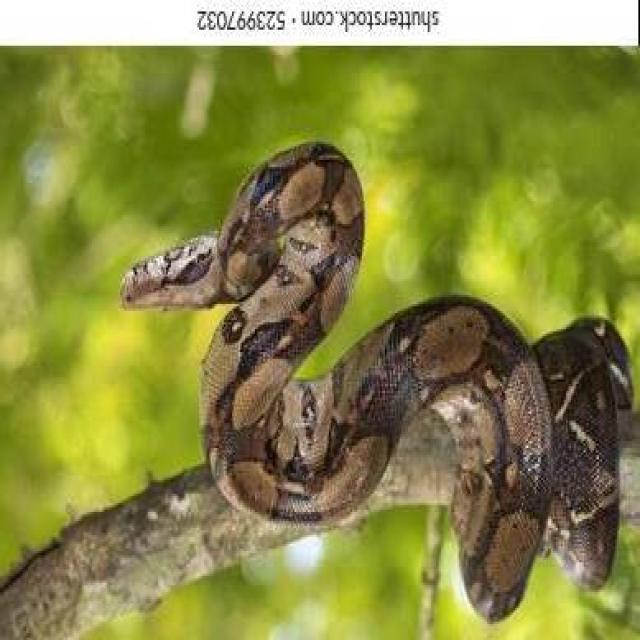Non-Venomous: (119, 215, 280, 328)
